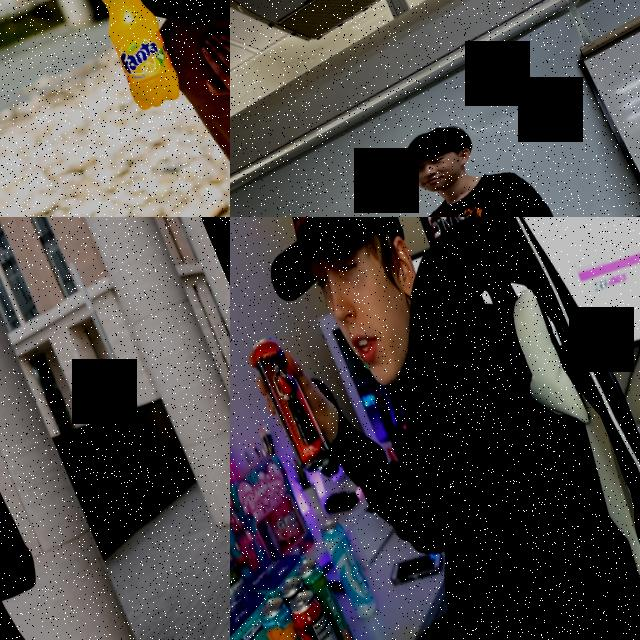bottle: (70, 0, 189, 112)
can: (242, 324, 338, 474), (314, 514, 386, 630), (292, 554, 362, 640), (283, 585, 356, 640), (254, 593, 338, 640)
